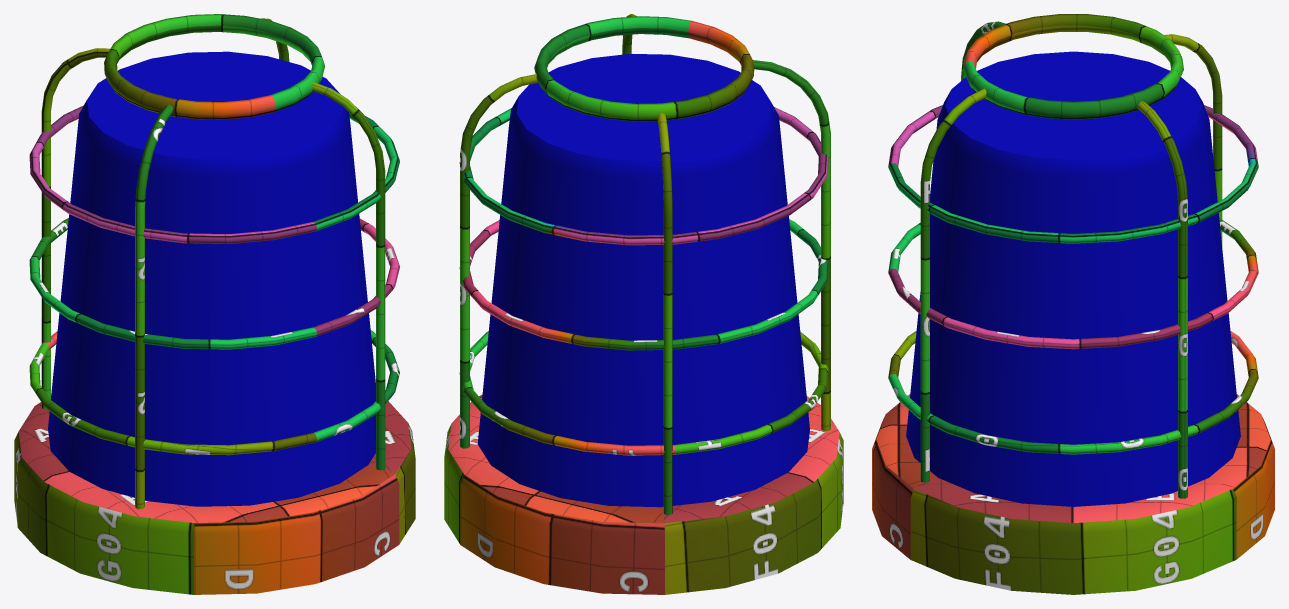
File: AlarmLight.fbx
The picture shows the model from 3 angles, left to right: view 1: azimuth 30°, elevation 25°; view 2: azimuth 150°, elevation 25°; view 3: azimuth 270°, elevation 25°; orthographic projection.
Visible parts, largest first — view 1: Grille_low; view 2: Grille_low; view 3: Grille_low.
Part boxes in pixels (box(x1,y1,x2,y2)): Grille_low: box(14, 14, 415, 594); Grille_low: box(444, 14, 843, 594); Grille_low: box(872, 14, 1274, 594).
Bounding box in the file's own units: 38.36 × 47.33 × 38.36.
